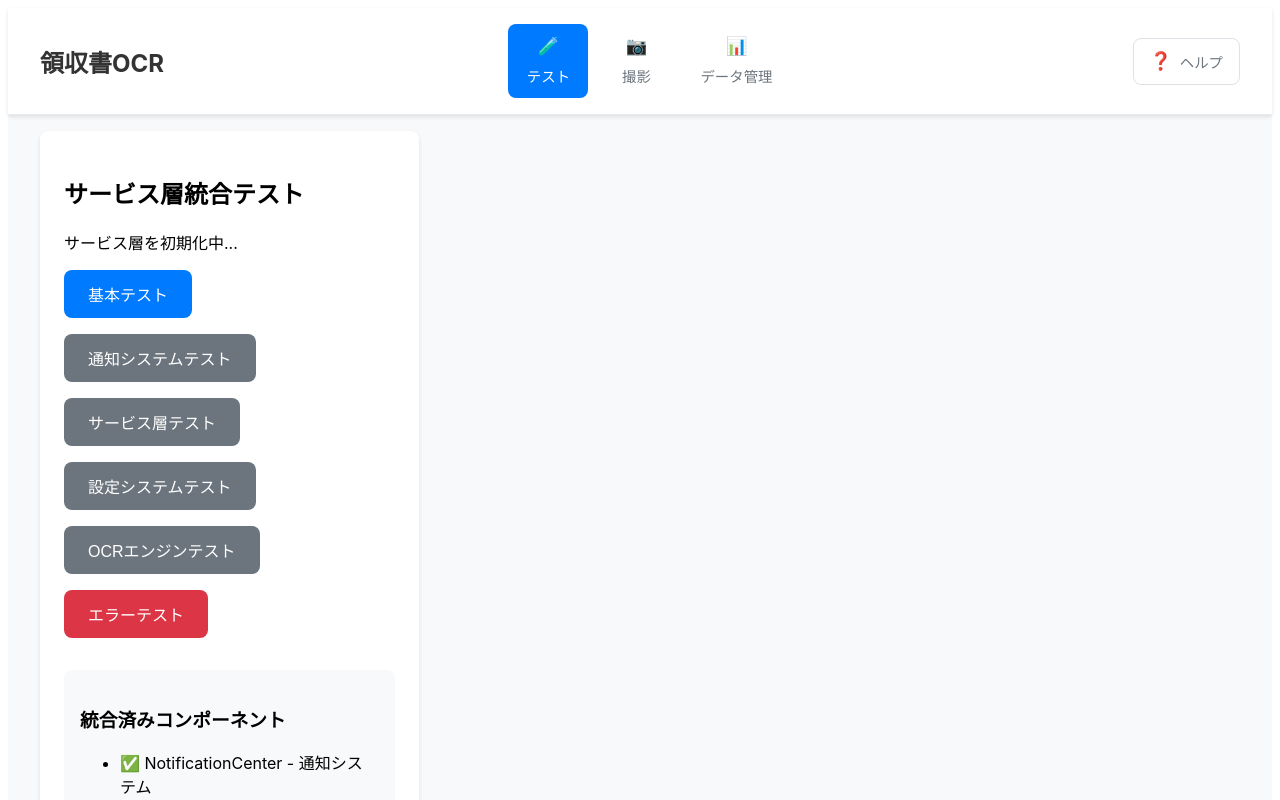
Help System Integration Tests › should navigate between help topics
The image size is (1280, 800).
Expected: the heading "領収書OCR" is shown, [40,44,164,78]
# Open help system
Click the button titled "ヘルプ・ガイド".
click(1186, 61)  # box [1133,38,1240,84]
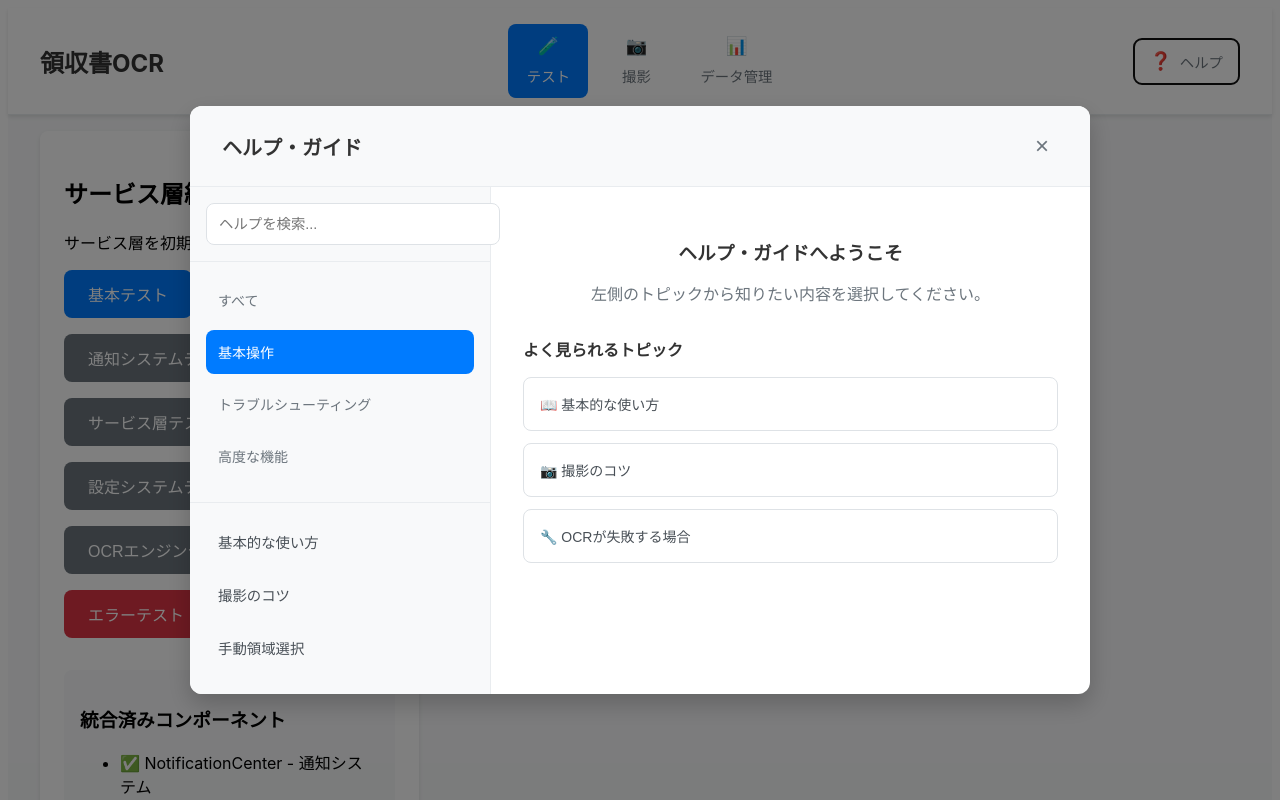
Expected: the heading "ヘルプ・ガイドへようこそ" is shown, [678,242,903,265]
# Click on a help topic
Click the button "基本的な使い方".
click(268, 543)  # box [206,519,474,564]
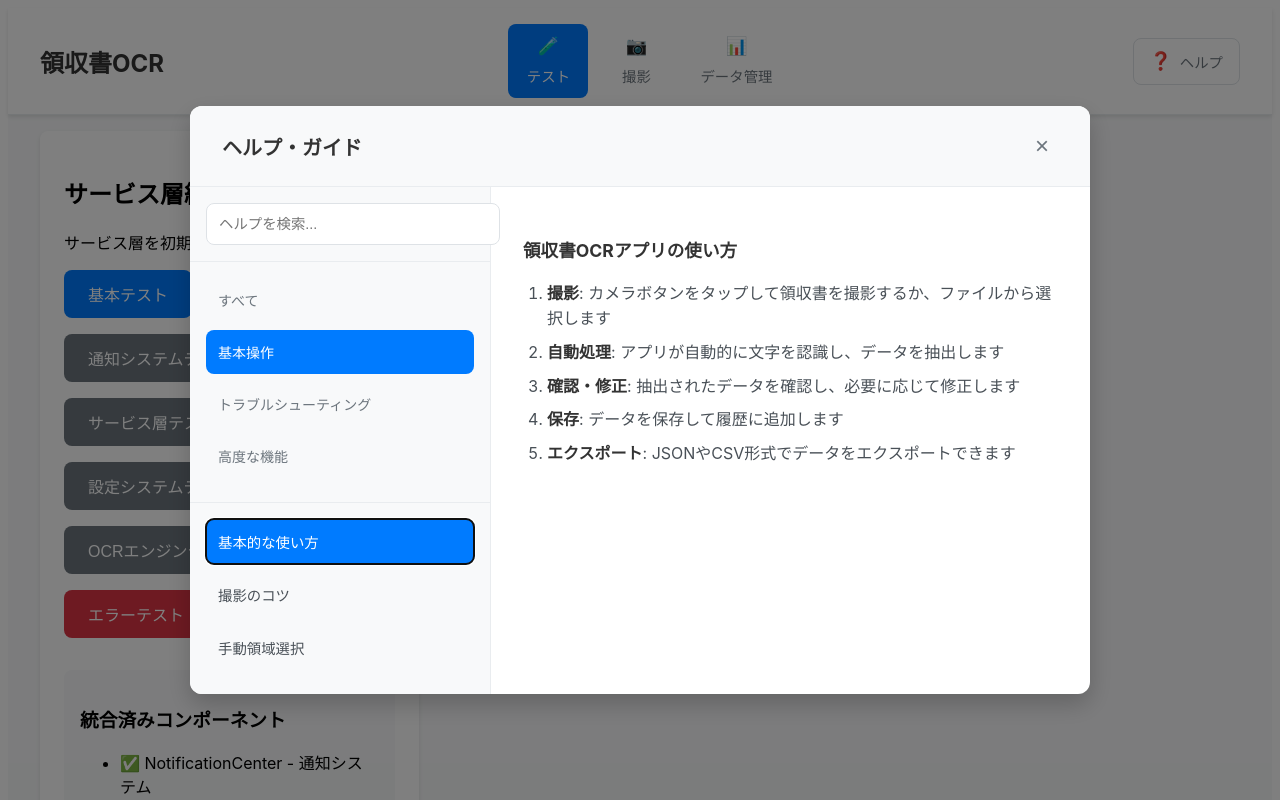
Expected: the heading "領収書OCRアプリの使い方" is shown, [523,240,737,261]
